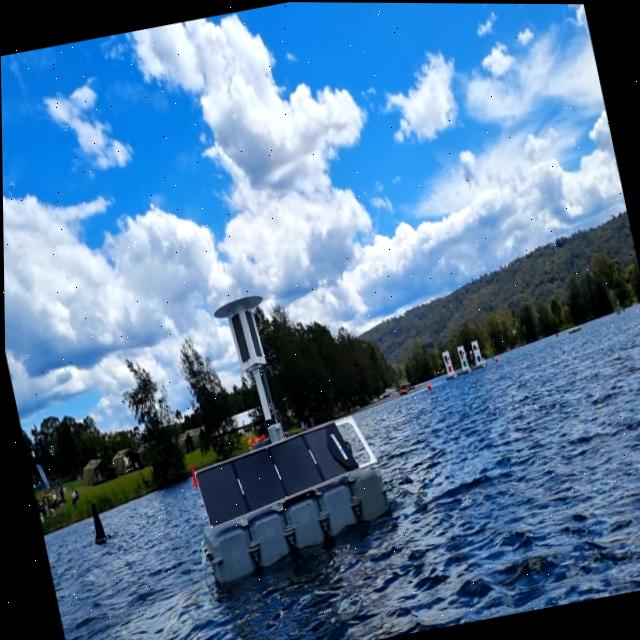led: (227, 312, 252, 365), (242, 308, 263, 362)
